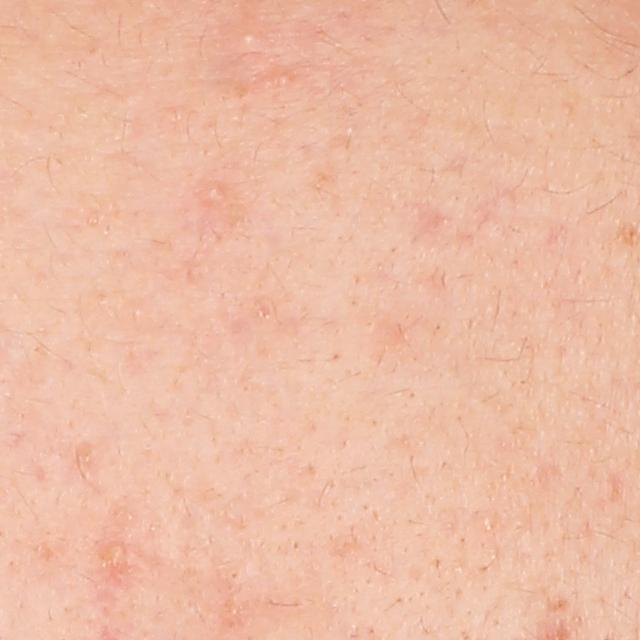comedo: (477, 512, 497, 534), (242, 32, 260, 46), (230, 569, 240, 580)
pustule: (101, 538, 128, 564)
